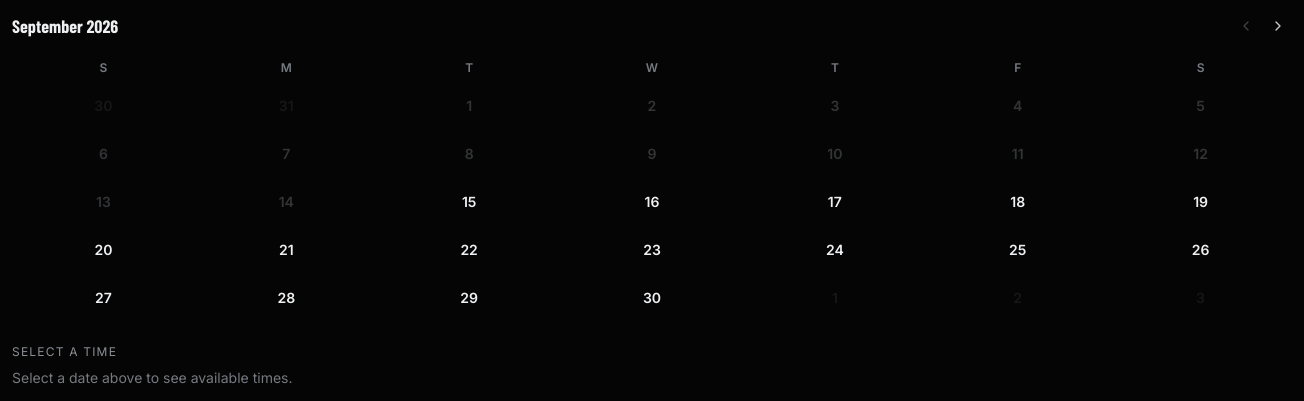
Test: BookingCalendar › navigates to the next month and re-enables the previous button
Click the button named "Next month" at (1278, 26), box [1264, 12, 1292, 40]
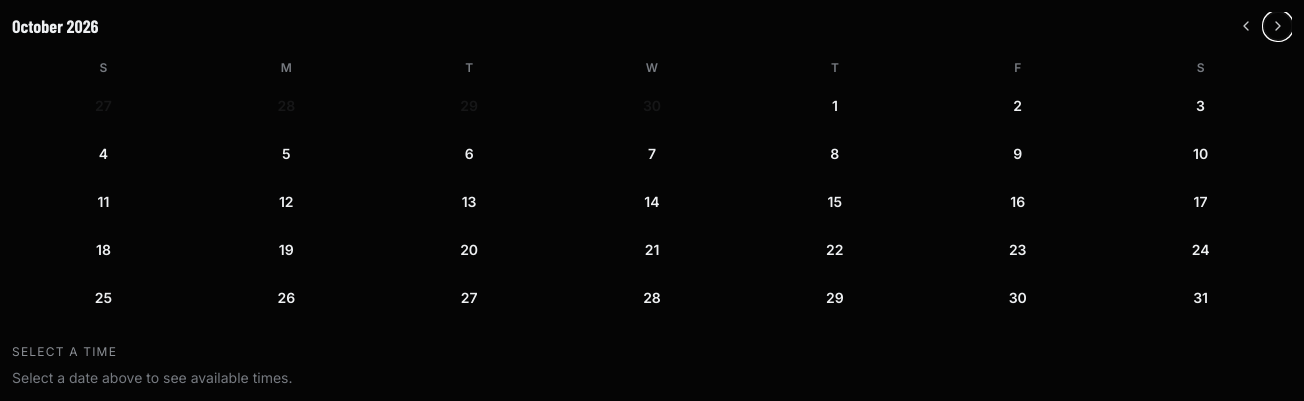
Expected: the button named "Previous month" is enabled, [1232, 12, 1260, 40]
Now the text "October 2026" is shown, box [12, 12, 98, 40]
